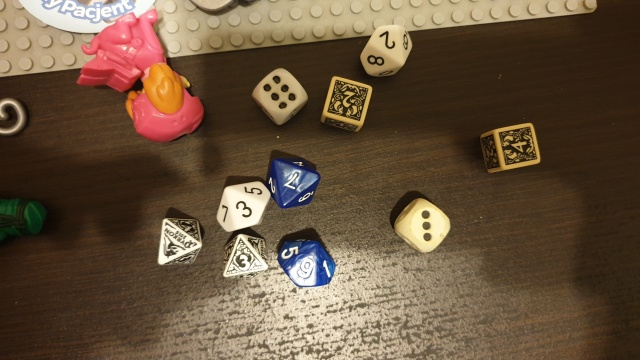d10-2: (356, 21, 419, 77)
d10-3: (214, 179, 271, 233)
d10-7: (263, 152, 324, 214)
d10-9: (275, 232, 338, 292)
d6-3: (392, 193, 455, 257)
d6-6: (251, 65, 311, 128)
d6p-2: (319, 73, 372, 136)
d6p-4: (479, 117, 545, 178)
d8p-1: (149, 214, 208, 271)
d8p-3: (219, 232, 272, 282)
